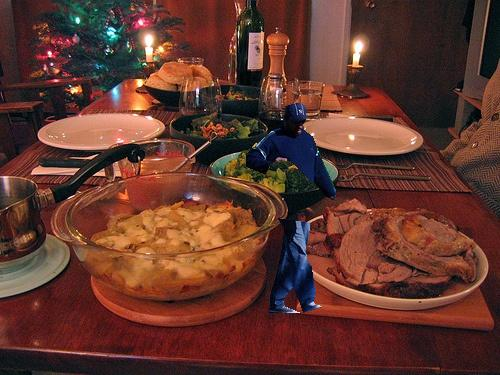tampered: (247, 104, 336, 313)
